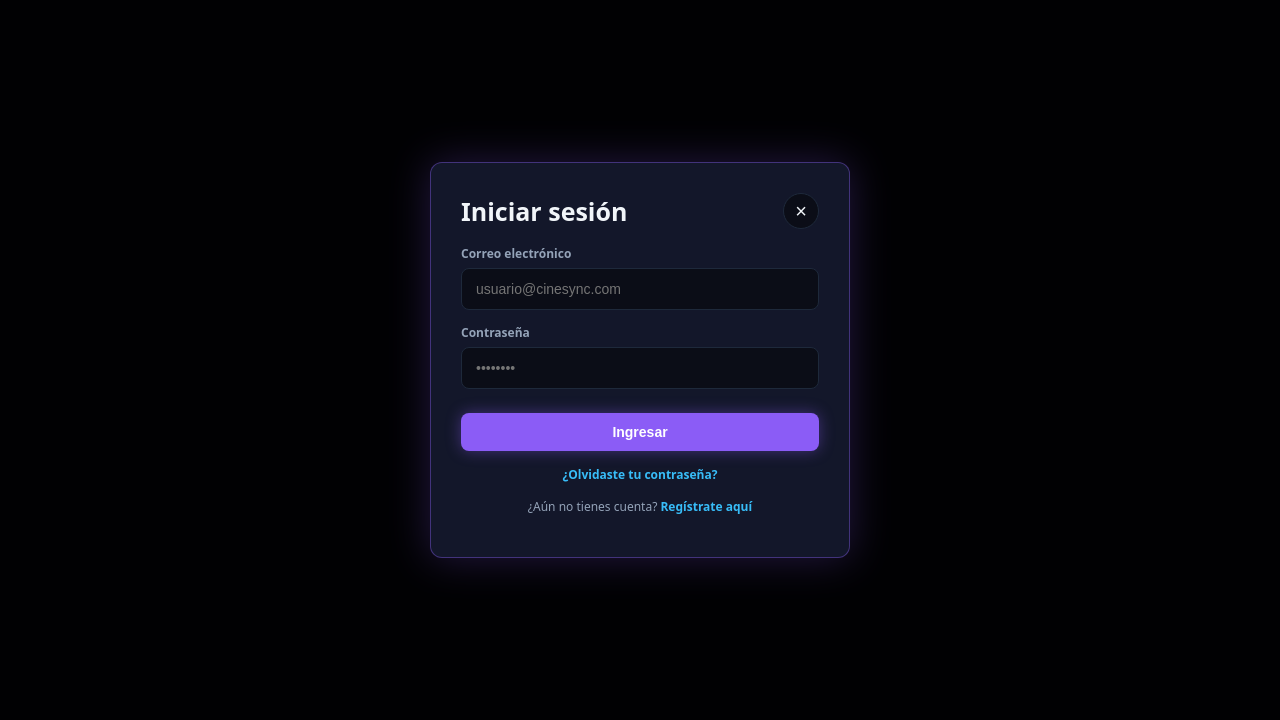
Test: LoginPageComponent › shows an invalid-credentials message and creates no session
In the field with id "login-email": [640, 289] box top-left (461, 268), bottom-right (819, 310), type "maria@cinesync.com"
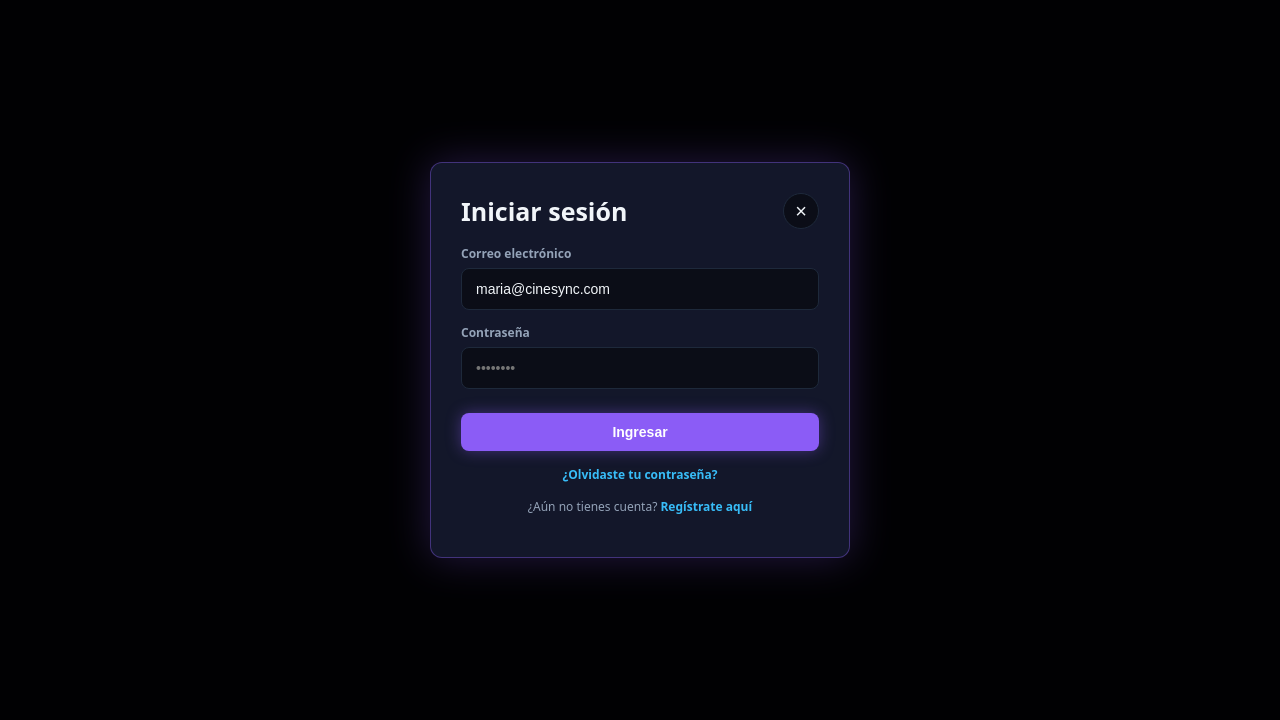
In the password field with id "login-password": [640, 368] box top-left (461, 347), bottom-right (819, 389), type "wrong-password"
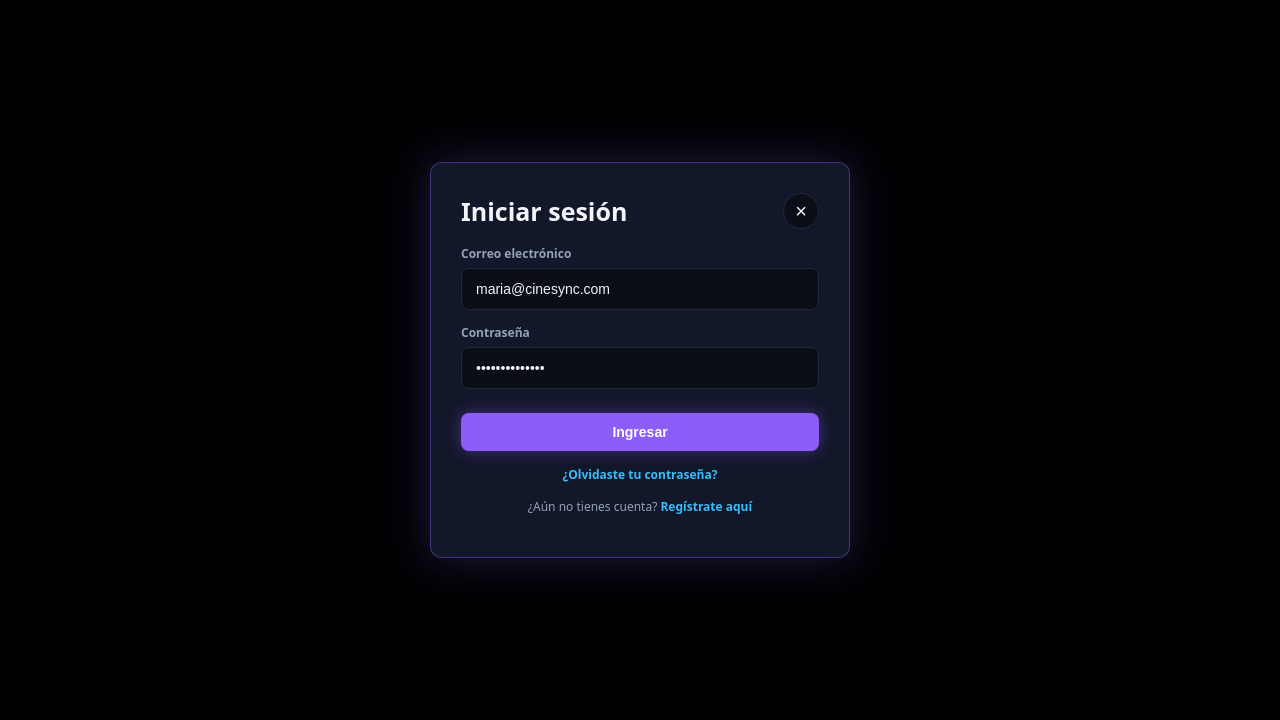
Submit the form, box top-left (461, 245), bottom-right (819, 451)
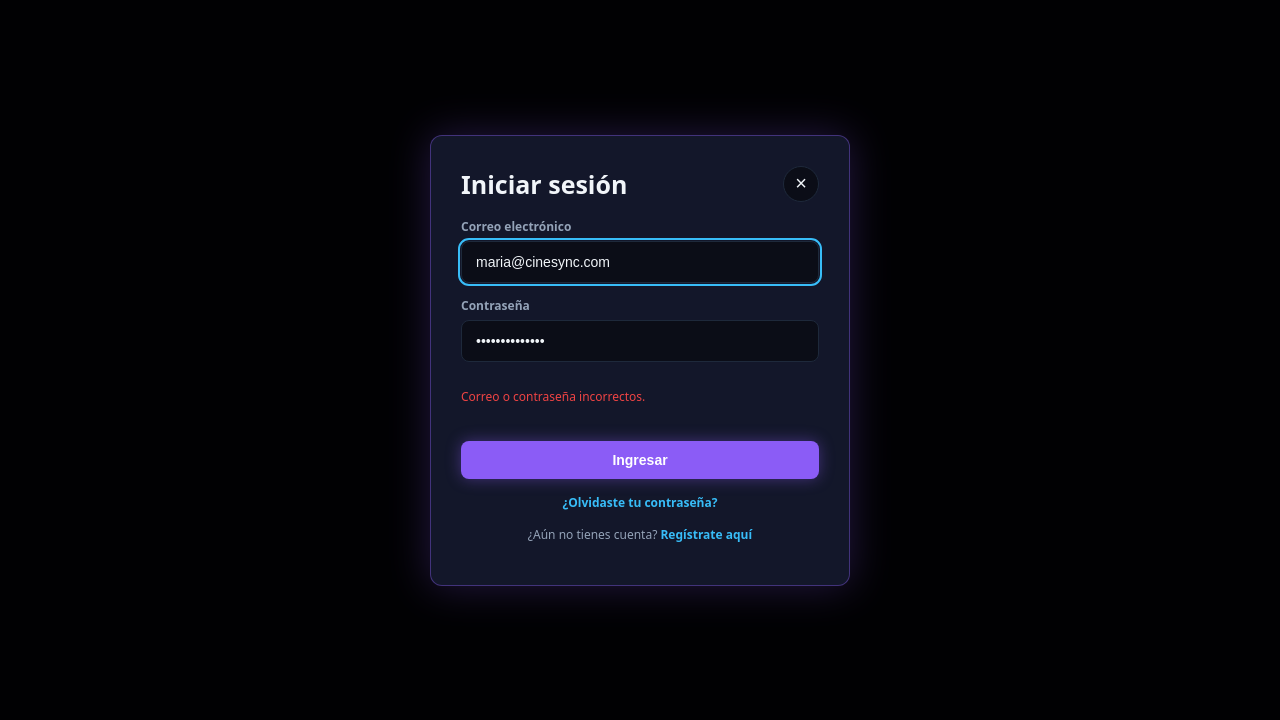
Check: the message "Correo o contraseña incorrectos." is shown, box top-left (461, 388), bottom-right (645, 404)
